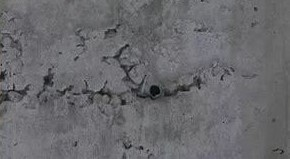Spalling: (35, 24, 237, 109), (1, 10, 32, 105), (121, 140, 155, 159)
